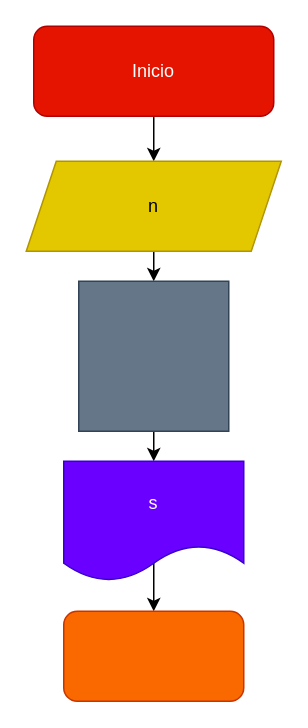
Image size: 308x728. Some labels were removed from this diagram. The shapes that lost their labels are listed below. From the top down, each one's centre as x and y in pixels, then its label:
At (x=153, y=355): "s= n(n+1)/2".
At (x=153, y=655): "FIN".
